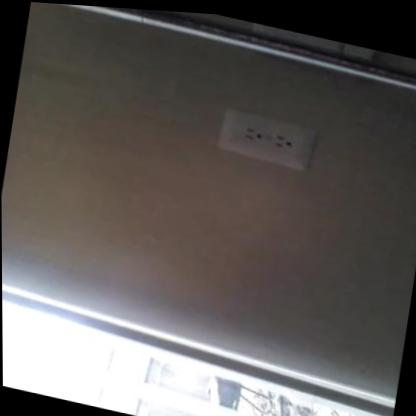OUTLET: (218, 105, 316, 171)
